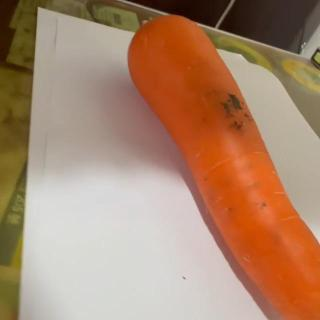carrot: (129, 11, 320, 320)
